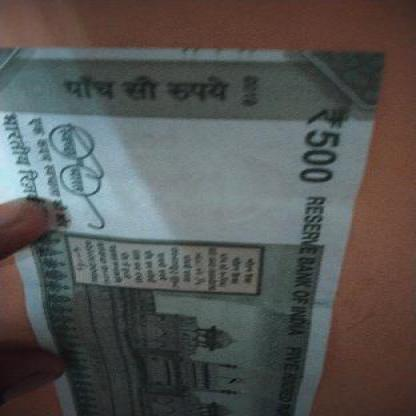New500Back: (0, 45, 368, 415)
